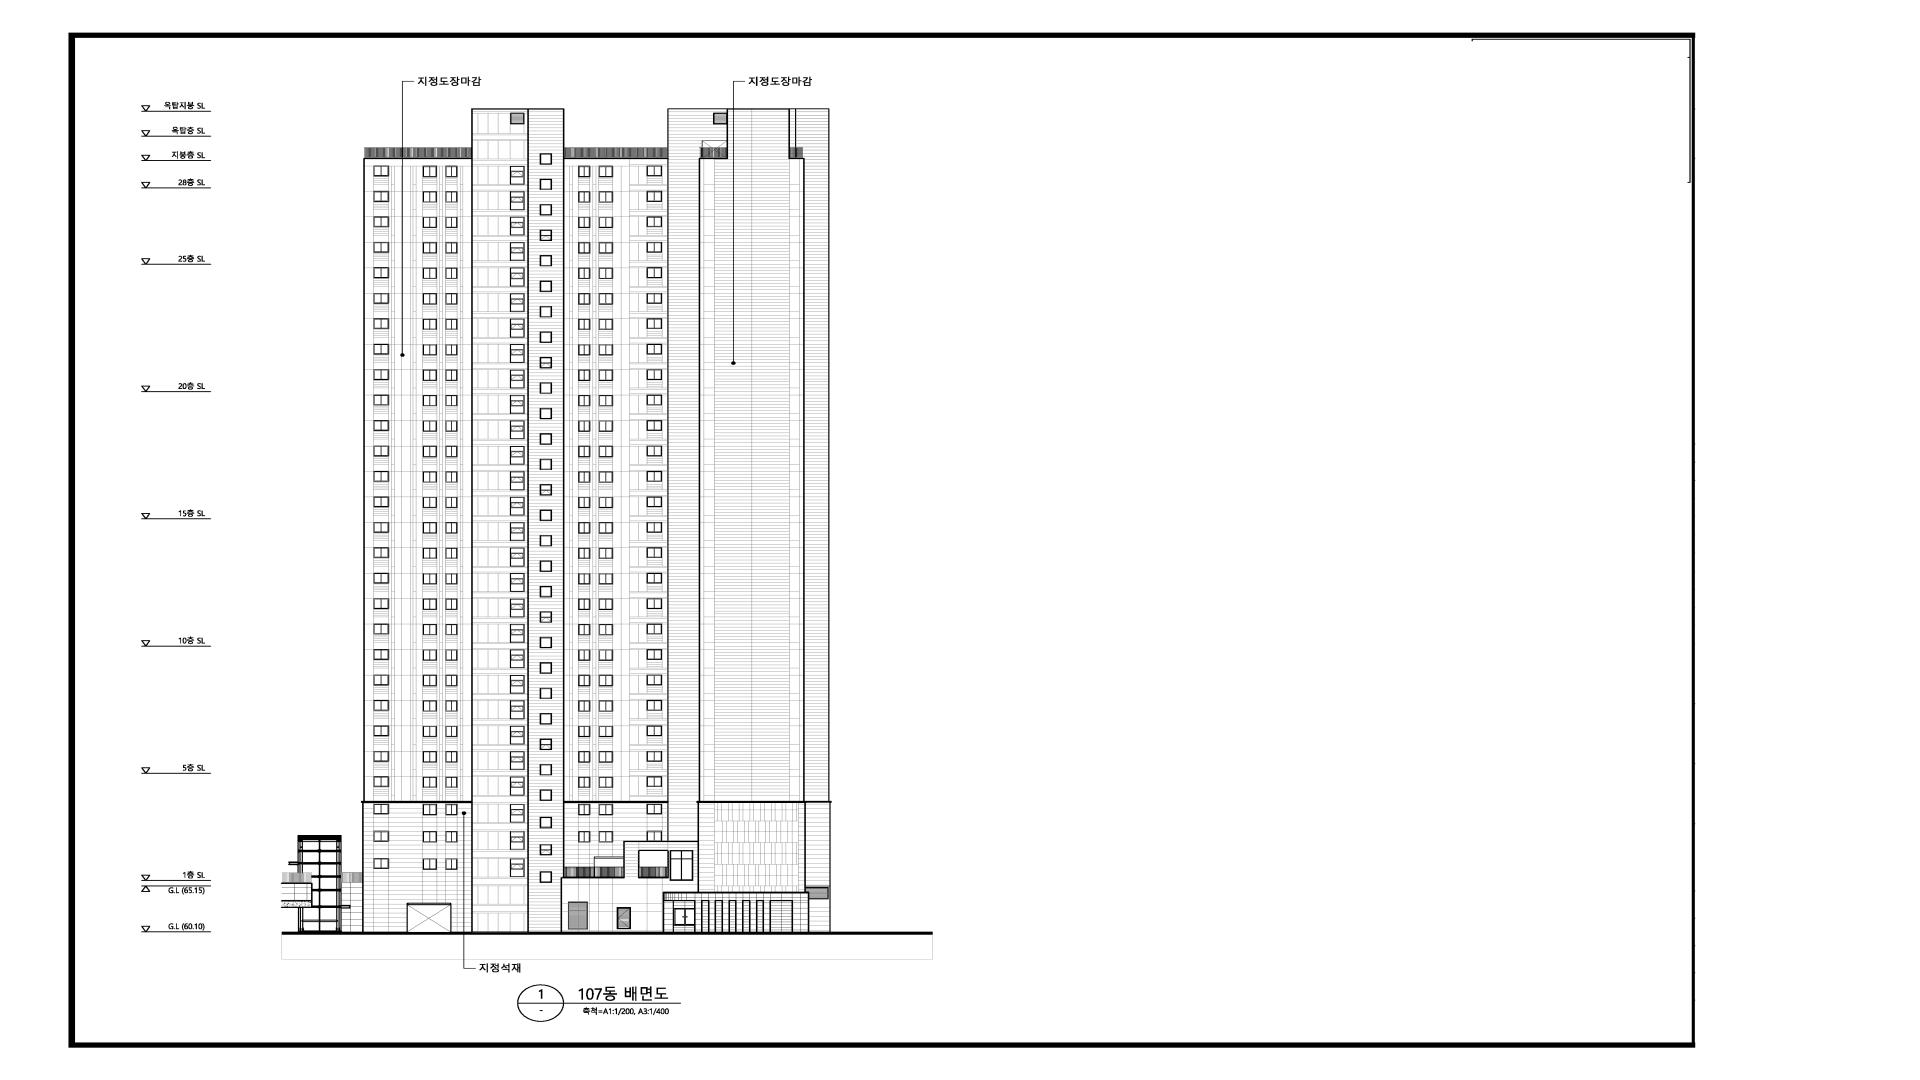door: (406, 903, 451, 932)
wall: (281, 108, 831, 935)
window: (638, 849, 669, 878), (769, 899, 793, 932), (670, 851, 694, 881), (593, 857, 624, 877), (568, 902, 588, 930), (702, 140, 727, 158), (673, 909, 696, 926), (616, 907, 632, 930), (509, 700, 525, 720), (509, 216, 525, 236), (728, 899, 737, 932), (509, 522, 525, 541), (509, 547, 525, 566), (509, 574, 525, 592), (509, 804, 525, 823), (510, 293, 525, 313), (510, 369, 525, 389), (510, 394, 525, 414), (510, 471, 525, 491), (510, 599, 525, 618), (510, 649, 525, 669), (510, 725, 525, 745), (510, 831, 525, 851), (510, 319, 525, 338), (510, 344, 525, 363), (510, 421, 525, 439), (510, 446, 525, 464), (510, 497, 525, 516), (510, 624, 525, 642), (510, 675, 525, 694), (510, 752, 525, 770), (510, 777, 525, 795), (510, 858, 525, 877), (510, 166, 525, 185), (510, 191, 525, 210), (510, 243, 525, 261), (510, 268, 525, 286), (806, 887, 828, 899), (756, 899, 764, 932), (702, 899, 709, 932), (742, 901, 750, 932), (715, 901, 723, 932), (599, 750, 613, 764), (373, 496, 389, 508), (646, 241, 662, 253), (646, 318, 662, 330), (646, 572, 662, 584), (373, 649, 389, 661), (373, 803, 389, 815), (422, 191, 438, 203), (422, 216, 438, 228), (422, 241, 438, 253), (422, 268, 438, 280), (422, 293, 438, 305), (422, 318, 438, 330), (422, 344, 438, 356), (422, 369, 438, 381), (422, 394, 438, 406), (422, 421, 438, 433), (422, 446, 438, 458), (422, 471, 438, 483), (422, 497, 438, 509), (422, 547, 438, 559), (422, 572, 438, 584), (422, 599, 438, 611), (422, 624, 438, 636), (422, 675, 438, 687), (422, 700, 438, 712), (422, 725, 438, 737), (422, 752, 438, 764), (373, 266, 389, 278), (373, 293, 389, 305), (373, 318, 389, 330), (373, 369, 389, 381), (373, 471, 389, 483), (422, 777, 438, 789), (422, 803, 438, 815), (422, 831, 438, 843), (422, 858, 438, 870), (423, 522, 438, 534), (599, 191, 613, 203), (599, 216, 613, 228), (599, 243, 613, 255), (599, 268, 613, 280), (599, 293, 613, 305), (599, 319, 613, 331), (599, 344, 613, 356), (599, 369, 613, 381), (599, 394, 613, 406), (599, 421, 613, 433), (599, 446, 613, 458), (599, 471, 613, 483), (599, 496, 613, 508), (599, 522, 613, 534), (599, 547, 613, 559), (599, 572, 613, 584), (599, 599, 613, 611), (599, 624, 613, 636), (599, 649, 613, 661), (599, 675, 613, 687), (599, 700, 613, 712), (599, 725, 613, 737), (599, 777, 613, 789), (599, 803, 613, 815), (599, 831, 613, 843), (510, 112, 525, 124), (599, 166, 613, 178), (373, 522, 389, 533), (373, 547, 389, 558), (646, 216, 662, 227), (646, 268, 662, 278), (646, 293, 662, 303), (646, 344, 662, 355), (646, 369, 662, 380), (646, 394, 662, 405), (646, 421, 662, 431), (646, 446, 662, 456), (646, 471, 662, 481), (646, 497, 662, 508), (646, 522, 662, 533), (646, 547, 662, 558), (646, 599, 662, 609), (646, 624, 662, 634), (646, 649, 662, 659), (646, 675, 662, 686), (646, 700, 662, 711), (646, 725, 662, 736), (646, 752, 662, 762), (646, 777, 662, 787), (646, 804, 662, 815), (646, 831, 662, 841), (373, 572, 389, 583), (373, 599, 389, 609), (373, 624, 389, 634), (373, 675, 389, 686), (373, 700, 389, 711), (373, 725, 389, 736), (373, 752, 389, 762), (373, 777, 389, 787), (373, 831, 389, 841), (373, 858, 389, 869), (422, 650, 438, 661), (646, 191, 662, 202), (646, 166, 662, 177), (422, 166, 438, 177), (373, 166, 389, 177), (373, 191, 389, 202), (373, 216, 389, 227), (373, 243, 389, 253), (373, 344, 389, 355), (373, 394, 389, 405), (373, 421, 389, 431), (373, 446, 389, 456), (539, 178, 553, 190), (539, 229, 553, 241), (539, 255, 553, 266), (539, 306, 553, 318), (539, 331, 553, 343), (539, 382, 553, 394), (539, 407, 553, 419), (539, 433, 553, 444), (578, 649, 591, 661), (578, 675, 591, 687), (578, 700, 591, 712), (578, 750, 591, 762), (578, 831, 591, 843), (713, 112, 727, 124), (578, 166, 591, 178), (539, 153, 553, 165), (539, 484, 553, 496), (539, 560, 553, 572), (539, 585, 553, 597), (539, 637, 553, 649), (539, 662, 553, 674), (539, 687, 553, 699), (539, 713, 553, 725), (539, 738, 553, 750), (539, 816, 553, 828), (539, 844, 553, 856), (539, 872, 553, 884), (578, 191, 591, 203), (578, 216, 591, 228), (578, 241, 591, 253), (578, 268, 591, 280), (578, 293, 591, 305), (578, 318, 591, 330), (578, 344, 591, 356), (578, 421, 591, 433), (578, 446, 591, 458), (578, 497, 591, 509), (578, 522, 591, 534), (578, 574, 591, 585), (578, 624, 591, 636), (579, 725, 591, 737), (579, 777, 591, 789), (579, 803, 591, 815), (446, 166, 458, 178), (446, 191, 458, 203), (446, 216, 458, 228), (446, 241, 458, 253), (446, 268, 458, 280), (446, 293, 458, 305), (446, 318, 458, 330), (446, 344, 458, 356), (446, 369, 458, 381), (446, 394, 458, 406), (446, 421, 458, 433), (446, 446, 458, 458), (446, 471, 458, 483), (446, 497, 458, 509), (446, 522, 458, 534), (446, 547, 458, 559), (446, 574, 458, 585), (446, 599, 458, 611), (446, 624, 458, 636), (446, 649, 458, 661), (446, 700, 458, 712), (446, 725, 458, 737), (446, 752, 458, 764), (446, 777, 458, 789), (446, 804, 458, 816), (446, 831, 458, 843), (446, 858, 458, 870), (579, 369, 591, 381), (579, 394, 591, 406), (579, 471, 591, 483), (579, 547, 591, 559), (579, 599, 591, 611), (539, 204, 553, 215), (539, 281, 553, 291), (539, 357, 553, 368), (539, 459, 553, 469), (539, 510, 553, 521), (539, 535, 553, 546), (539, 612, 553, 622), (539, 765, 553, 775), (539, 790, 553, 800), (446, 675, 458, 686)
